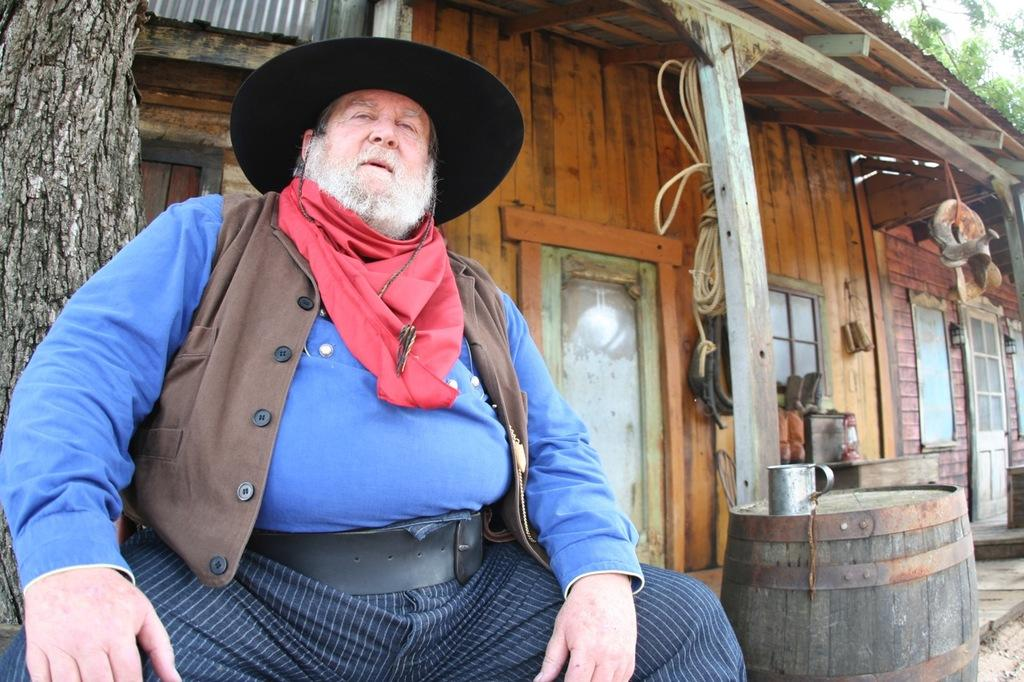Hat: (226, 33, 527, 298)
